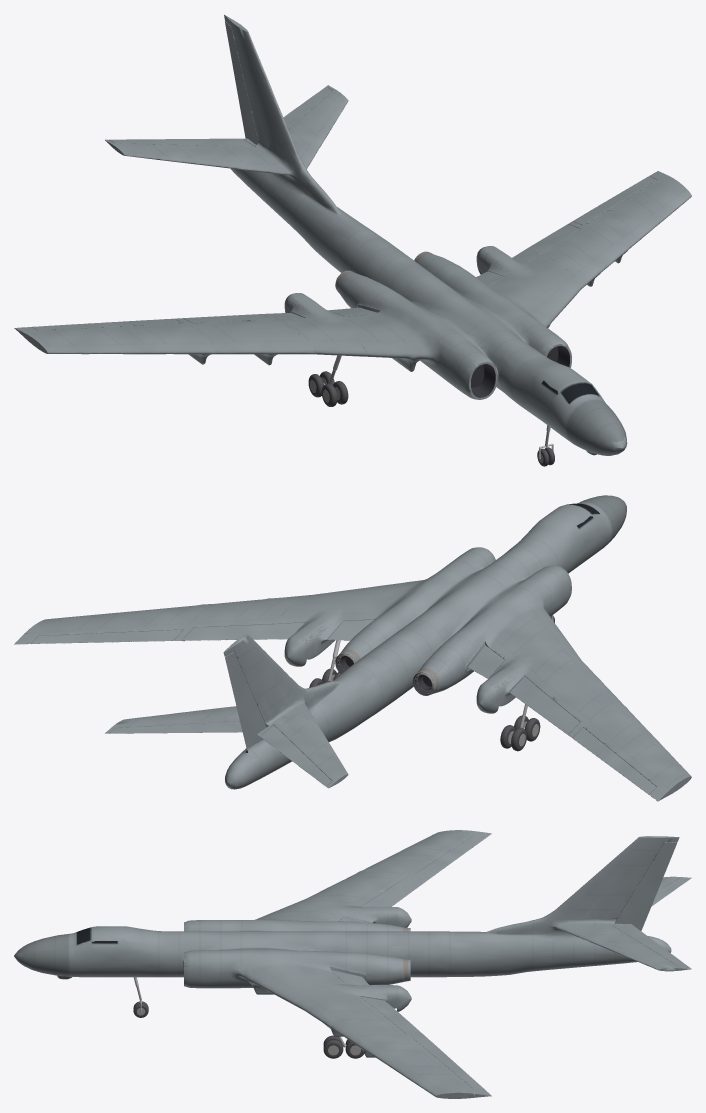
3 renders of one model, top to bottom at view 1: azimuth 30°, elevation 25°; view 2: azimuth 150°, elevation 25°; view 3: azimuth 270°, elevation 25°, orthographic. The views are drawn at different scales.
Parts seen in each view (by area): view 1: airframe, fsim:flaps (×2), fsim:aileron (×2), fsim:rudder, fsim:elevator; view 2: airframe, fsim:flaps (×4), fsim:aileron (×2), fsim:elevator (×2), fsim:rudder, fsim:wheel:2:0.525; view 3: airframe, fsim:rudder, fsim:flaps (×2), fsim:aileron (×2), fsim:elevator.
Part boxes in pixels (bbox=[...]): airframe: bbox=[14, 14, 691, 455]; fsim:flaps (×2): bbox=[182, 224, 579, 322]; fsim:aileron (×2): bbox=[31, 176, 656, 330]; fsim:rudder: bbox=[225, 21, 258, 144]; fsim:elevator: bbox=[109, 138, 254, 146]; airframe: bbox=[14, 495, 691, 801]; fsim:flaps (×4): bbox=[182, 619, 579, 734]; fsim:aileron (×2): bbox=[31, 629, 656, 794]; fsim:elevator (×2): bbox=[109, 721, 331, 786]; fsim:rudder: bbox=[225, 652, 266, 748]; fsim:wheel:2:0.525: bbox=[500, 725, 526, 751]; airframe: bbox=[14, 830, 691, 1098]; fsim:rudder: bbox=[614, 842, 677, 930]; fsim:flaps (×2): bbox=[360, 877, 426, 1037]; fsim:aileron (×2): bbox=[413, 836, 485, 1090]; fsim:elevator: bbox=[612, 924, 689, 967].
Size of the model in its own units: 32.91 by 10.51 by 35.89.
Materials: 6 (1 with a texture image).
